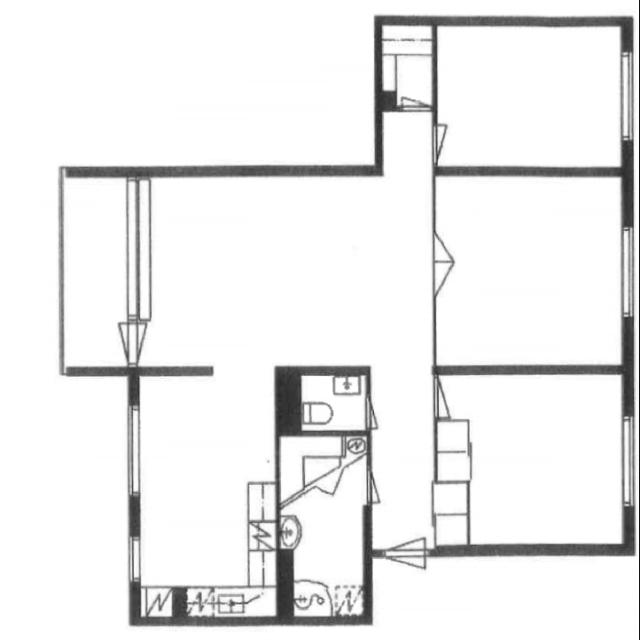door: (379, 530, 436, 575), (111, 315, 155, 362), (426, 230, 456, 293), (424, 114, 456, 158), (427, 374, 453, 427), (362, 391, 388, 439), (398, 92, 433, 122), (365, 465, 381, 507)
window: (116, 170, 162, 322), (118, 393, 150, 505), (612, 215, 640, 335), (614, 403, 640, 512), (611, 43, 634, 152), (124, 527, 144, 583)
zone: (134, 172, 439, 375), (432, 163, 627, 369), (432, 363, 633, 559), (129, 369, 283, 619), (430, 14, 631, 170), (270, 427, 371, 620), (286, 365, 372, 429), (376, 19, 431, 116)
